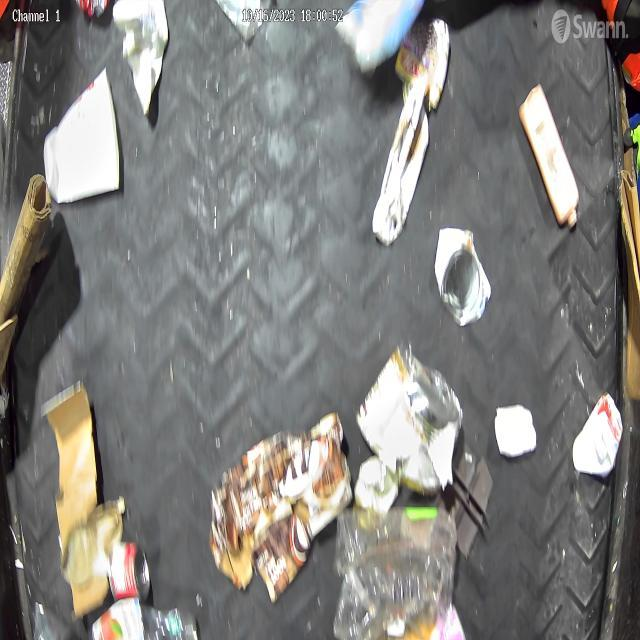can: (434, 225, 492, 328), (572, 394, 624, 478), (108, 542, 152, 602)
